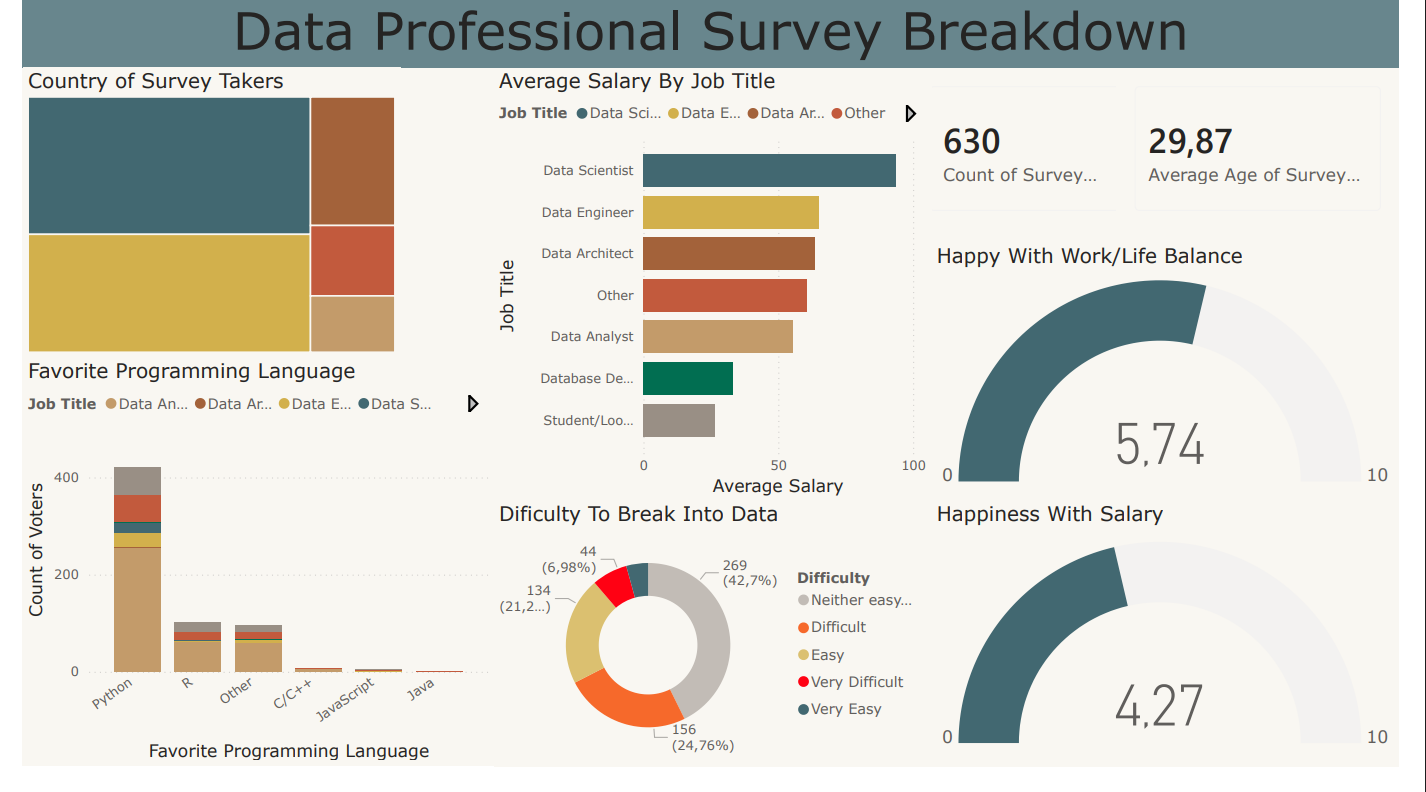

This screenshot's page, from the dashboard's own definition file:
{"tool":"powerbi","page":{"name":"Page 1","canvas":[1280,720],"ordinal":0},"visuals":[{"type":"textbox","box":[0,0,1280.3,70],"z":0},{"type":"cardVisual","fields":{"Data":["Count(Data Professional Survey.Unique ID)"]},"box":[826.1,70,220.9,149.6],"z":1000},{"type":"cardVisual","fields":{"Data":["Avg(Data Professional Survey.Q10 - Current Age)"]},"box":[1016.8,70,263.5,149.6],"z":2000},{"type":"barChart","title":"Average Salary By Job Title","fields":{"Category":["Data Professional Survey.Q1 - Which Title Best Fits your Current Role?.1"],"Y":["Avg(Data Professional Survey.Average Salary)"],"Series":["Data Professional Survey.Q1 - Which Title Best Fits your Current Role?.1"]},"box":[437.7,70,407.5,403.4],"z":3000},{"type":"columnChart","title":"Favorite Programming Language","fields":{"Category":["Data Professional Survey.Q5 - Favorite Programming Language.1"],"Y":["CountNonNull(Data Professional Survey.Unique ID)"],"Series":["Data Professional Survey.Q1 - Which Title Best Fits your Current Role?.1"]},"box":[0,340.3,437.7,378.7],"z":4000},{"type":"treemap","title":"Country of Survey Takers","fields":{"Group":["Data Professional Survey.Q11 - Which Country do you live in?.1"],"Values":["CountNonNull(Data Professional Survey.Q11 - Which Country do you live in?.1)"]},"box":[0,70,351.3,270.3],"z":5000},{"type":"gauge","title":"Happy With Work/Life Balance","fields":{"Y":["Avg(Data Professional Survey.Q6 - How Happy are you in your Current Position with the following? (Work/Life Balance))"],"MinValue":["Min(Data Professional Survey.Q6 - How Happy are you in your Current Position with the following? (Work/Life Balance))1"],"MaxValue":["Max(Data Professional Survey.Q6 - How Happy are you in your Current Position with the following? (Work/Life Balance))2"]},"box":[845.3,233.3,435,240.1],"z":6000},{"type":"gauge","title":"Happiness With Salary","fields":{"Y":["Avg(Data Professional Survey.Q6 - How Happy are you in your Current Position with the following? (Salary))"],"MinValue":["Min(Data Professional Survey.Q6 - How Happy are you in your Current Position with the following? (Salary))"],"MaxValue":["Max(Data Professional Survey.Q6 - How Happy are you in your Current Position with the following? (Salary))"]},"box":[845.3,473.4,435,247],"z":7000},{"type":"donutChart","title":"Dificulty To Break Into Data","fields":{"Category":["Data Professional Survey.Q7 - How difficult was it for you to break into Data?"],"Y":["CountNonNull(Data Professional Survey.Q7 - How difficult was it for you to break into Data?)"]},"box":[437.7,473.4,407.5,247],"z":8000}]}

Visuals, with their boxes in screenshot pixels (x1, y1, x2, y2), scaled from the page's 1280x720 canvas onto the 1426x792 screenshot:
textbox: [left=0, top=0, right=1425, bottom=77]
cardVisual - Count(Data Professional Survey.Unique ID): [left=920, top=77, right=1166, bottom=242]
cardVisual - Avg(Data Professional Survey.Q10 - Current Age): [left=1133, top=77, right=1425, bottom=242]
"Average Salary By Job Title" barChart: [left=488, top=77, right=942, bottom=521]
"Favorite Programming Language" columnChart: [left=0, top=374, right=488, bottom=791]
"Country of Survey Takers" treemap: [left=0, top=77, right=391, bottom=374]
"Happy With Work/Life Balance" gauge: [left=942, top=257, right=1425, bottom=521]
"Happiness With Salary" gauge: [left=942, top=521, right=1425, bottom=791]
"Dificulty To Break Into Data" donutChart: [left=488, top=521, right=942, bottom=791]
